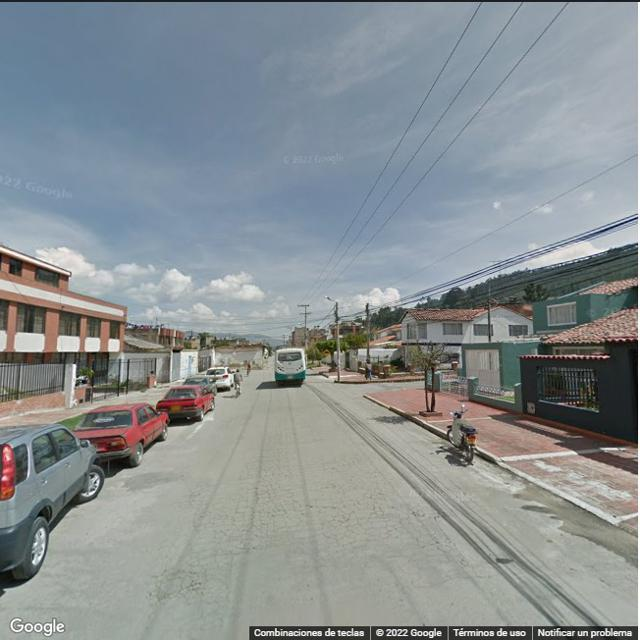D00: (429, 508, 459, 548)
D10: (406, 577, 473, 589)
D20: (200, 499, 306, 548), (316, 484, 416, 535), (147, 562, 222, 603)
